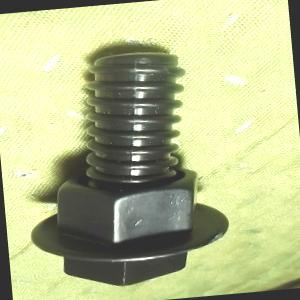parafuso: (13, 41, 234, 294)
